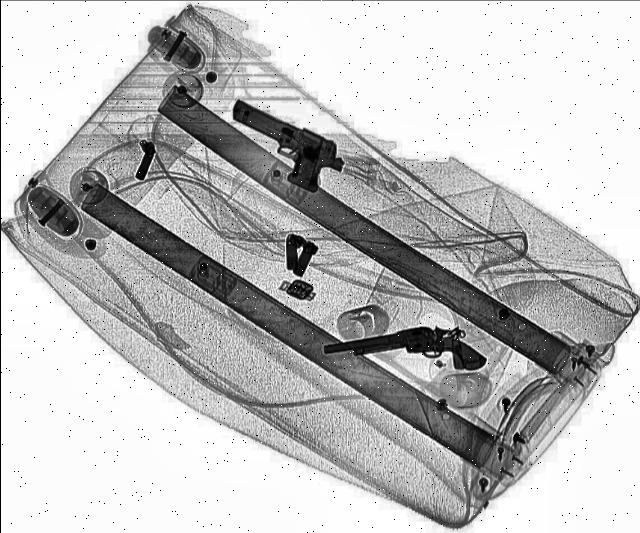Gun: (202, 96, 356, 198), (322, 319, 490, 392)
